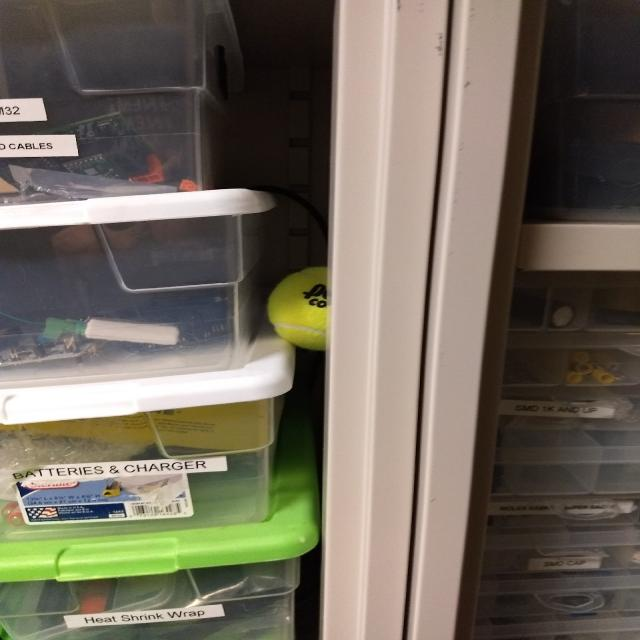Tennis-Ball: (259, 256, 385, 364)
